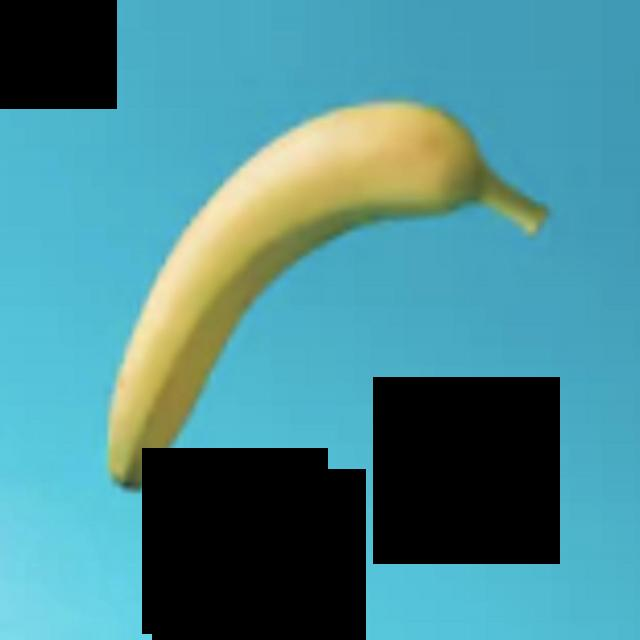banana: (0, 0, 638, 637)
